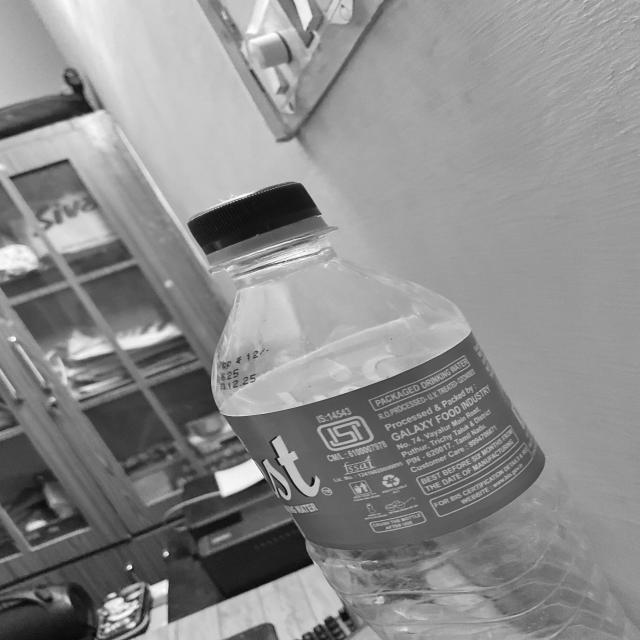Good-cap-Df0S: (186, 183, 327, 270)
